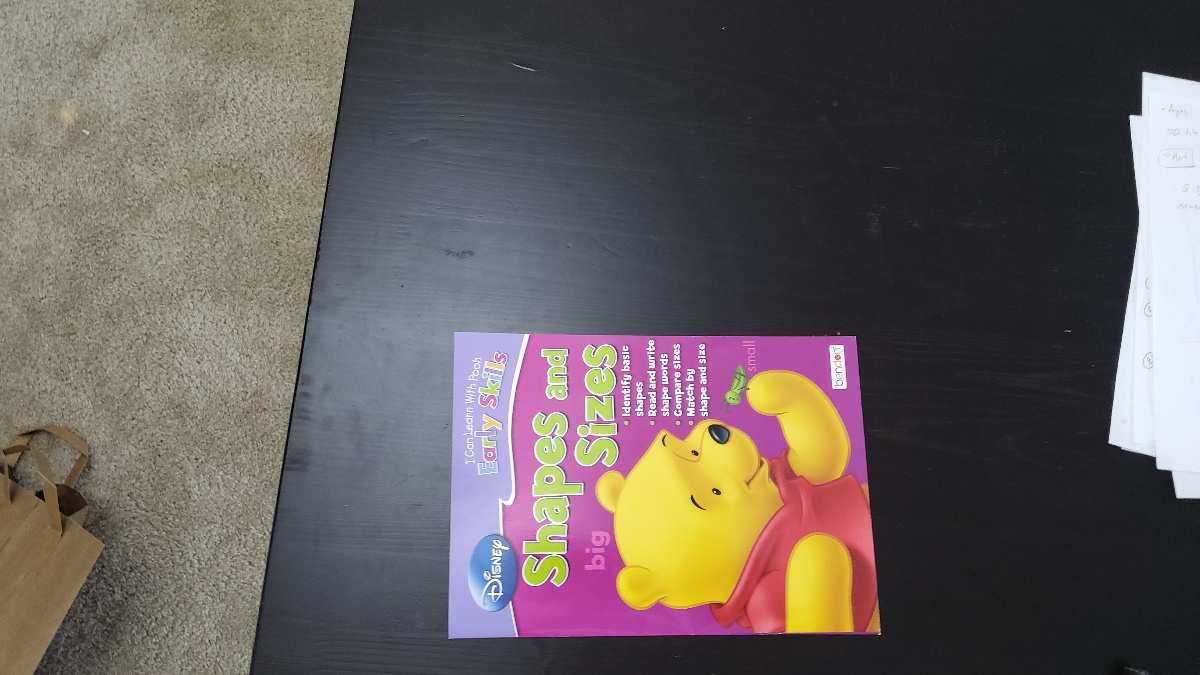book: (454, 337, 867, 629)
